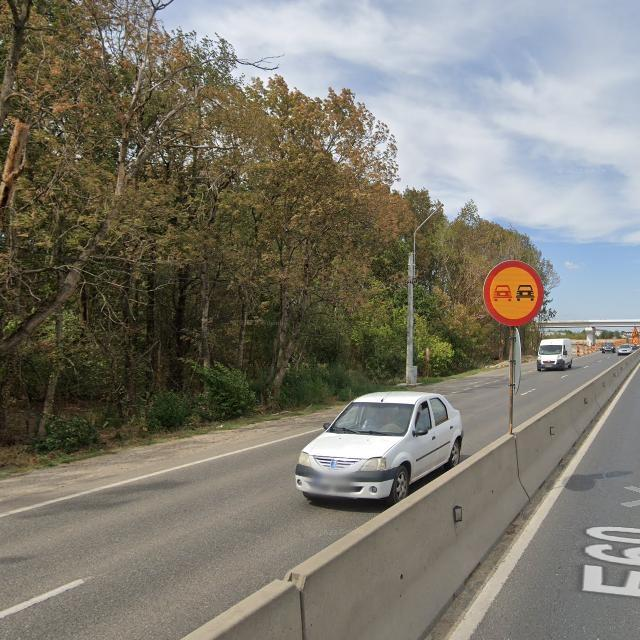forb_overtake: (483, 260, 543, 326)
